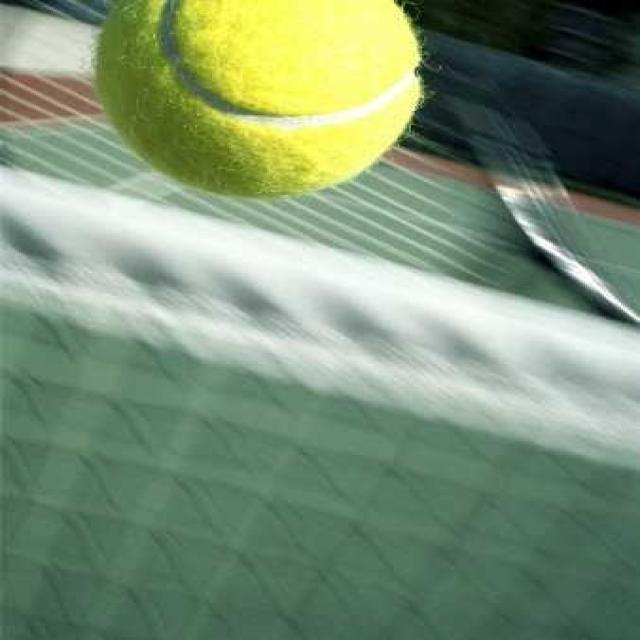Tennis_Ball: (93, 0, 427, 201)
